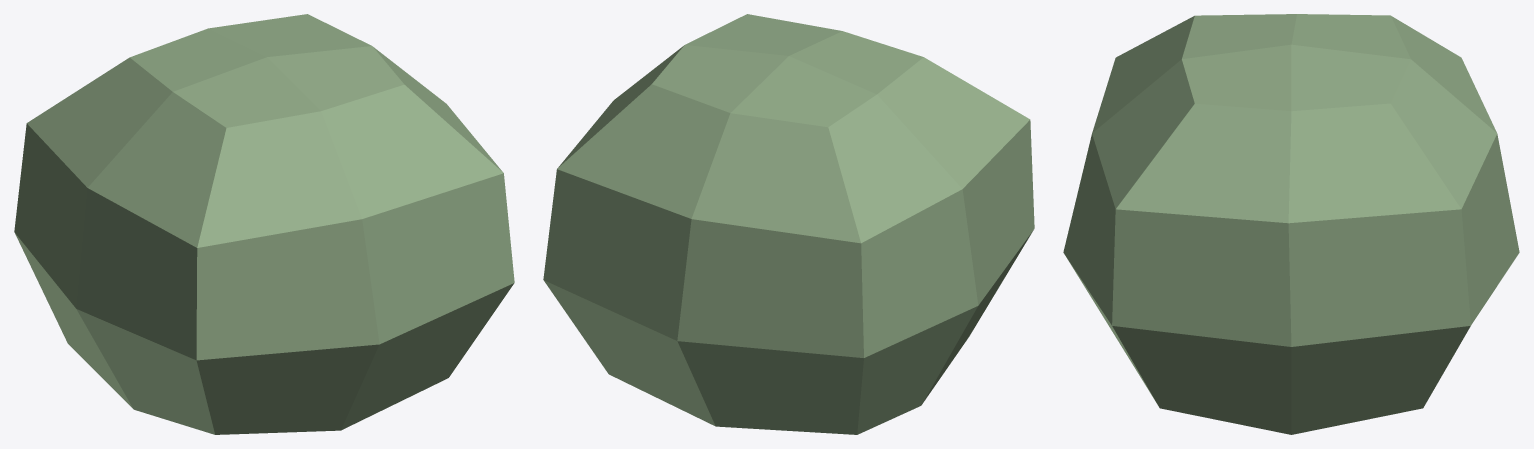
Rendered from cabbage.fbx.
The picture shows the model from 3 angles, left to right: view 1: azimuth 30°, elevation 25°; view 2: azimuth 150°, elevation 25°; view 3: azimuth 270°, elevation 25°; orthographic projection. The views are drawn at different scales.
Visible parts, largest first — view 1: cabbage; view 2: cabbage; view 3: cabbage.
Boxes of the visible parts, x1,y1,x2,y2 form: cabbage: [14, 14, 514, 434]; cabbage: [543, 14, 1034, 434]; cabbage: [1063, 14, 1519, 434].
Bounding box in the file's own units: 18.31 × 15.38 × 18.7.
1 material, 1 textured.
